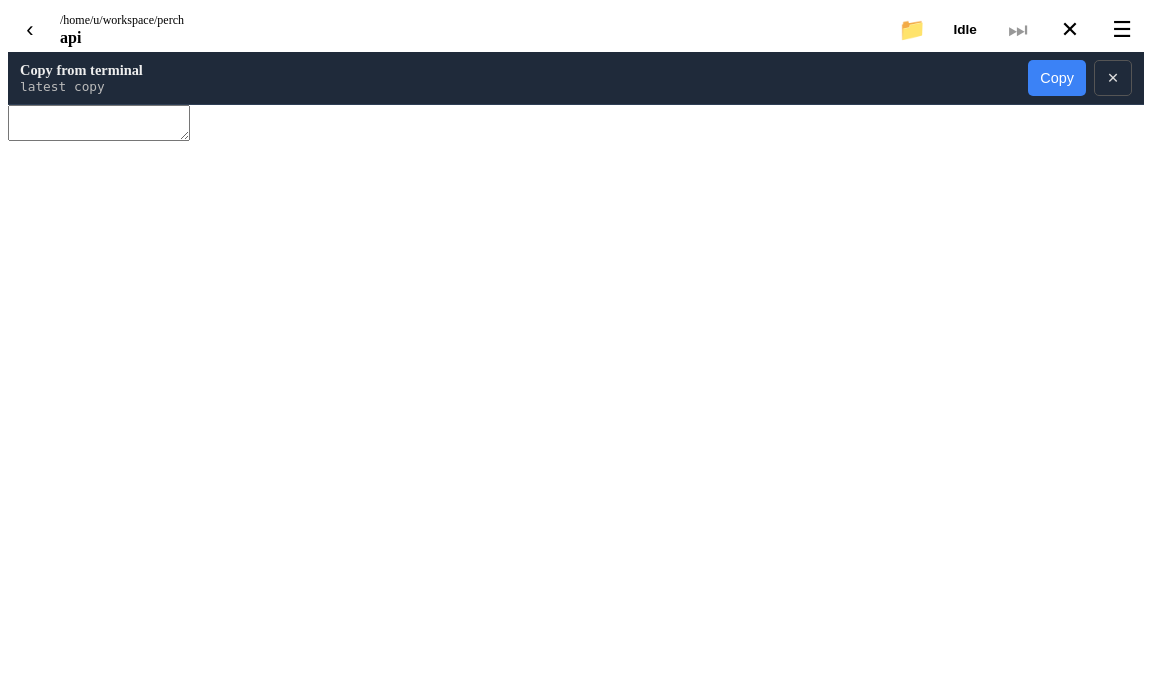
Test case: TerminalView › offers a tap to copy when the browser refuses a write without a gesture
Expected: the element with test id "copy-offer" shows "latest copy", [20,79,105,94]
What coordinates should you click on to do the following:
click the button "Copy"
I would click on:
 (1057, 78)
Its box is [1028,60,1086,96].
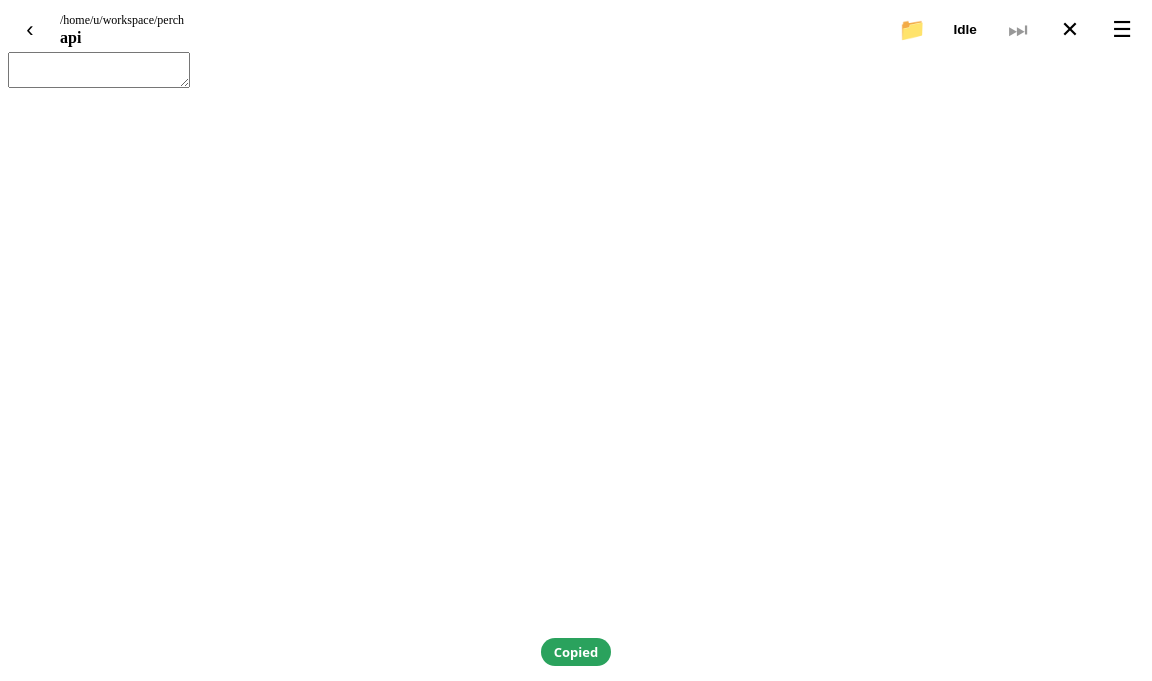
Result: the text "Copied" is shown at [541,638,611,666]
Result: the element with test id "copy-offer" is gone
